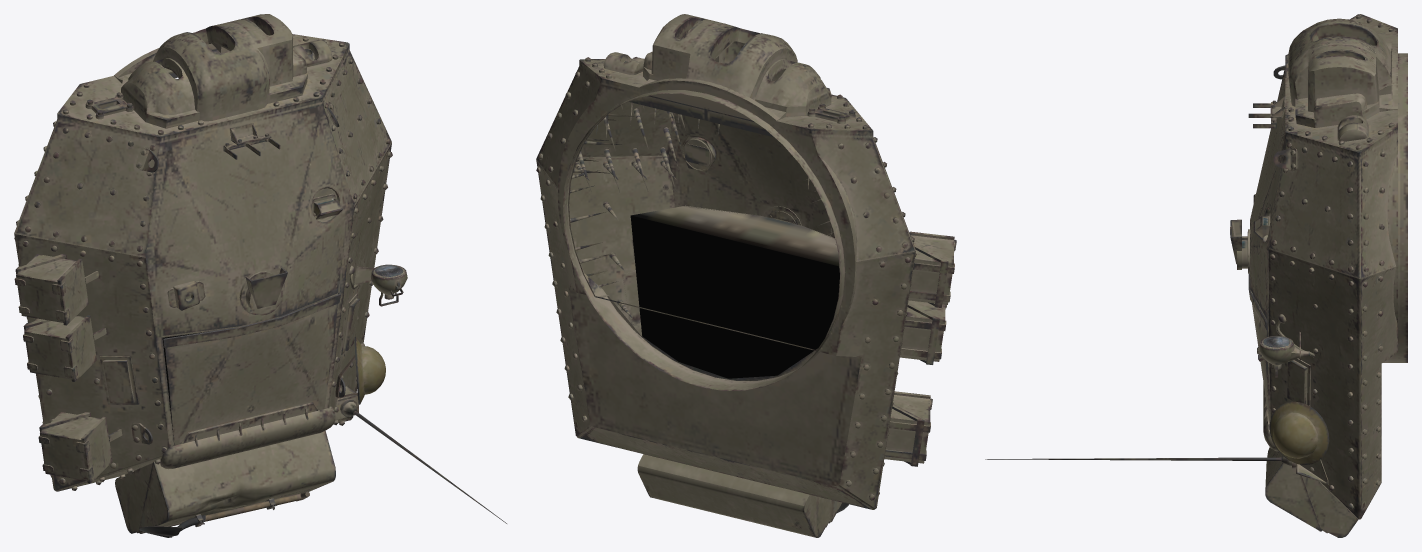
The model's file is Turret_02.glb.
The picture shows the model from 3 angles, left to right: view 1: azimuth 30°, elevation 25°; view 2: azimuth 150°, elevation 25°; view 3: azimuth 270°, elevation 25°; orthographic projection. The views are drawn at different scales.
Parts seen in each view (by area): view 1: set_0_group_0; view 2: set_0_group_0; view 3: set_0_group_0.
Boxes of the visible parts, x1,y1,x2,y2 form: set_0_group_0: [14, 14, 506, 537]; set_0_group_0: [536, 14, 956, 537]; set_0_group_0: [985, 14, 1407, 537].
Size of the model in its own units: 2.19 by 2.53 by 2.07.
1 material, 1 textured.
